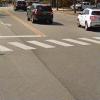crosswalk: (0, 37, 99, 51)
